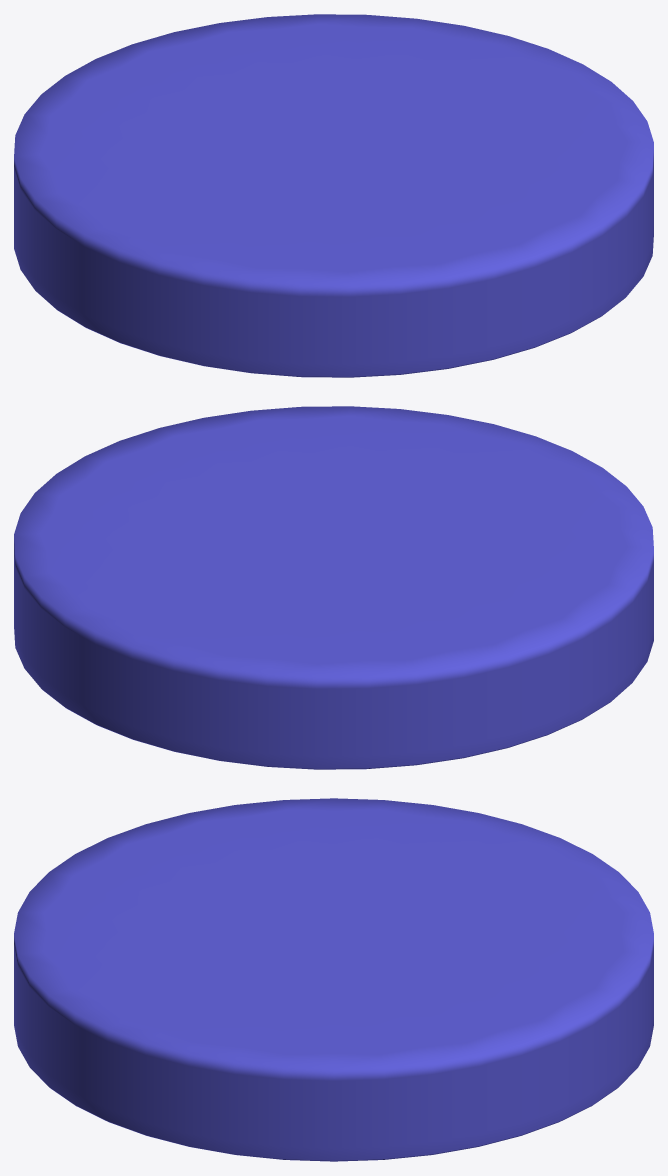
File: bottole_cap.fbx
3 renders of one model, top to bottom at view 1: azimuth 30°, elevation 25°; view 2: azimuth 150°, elevation 25°; view 3: azimuth 270°, elevation 25°, orthographic.
Visible parts, largest first — view 1: pCylinder2; view 2: pCylinder2; view 3: pCylinder2.
Part boxes in pixels (x1,y1,x2,y2): pCylinder2: (14, 14, 653, 377); pCylinder2: (14, 406, 653, 769); pCylinder2: (14, 798, 653, 1161).
Bounding box in the file's own units: 1.51 × 0.2486 × 1.51.
